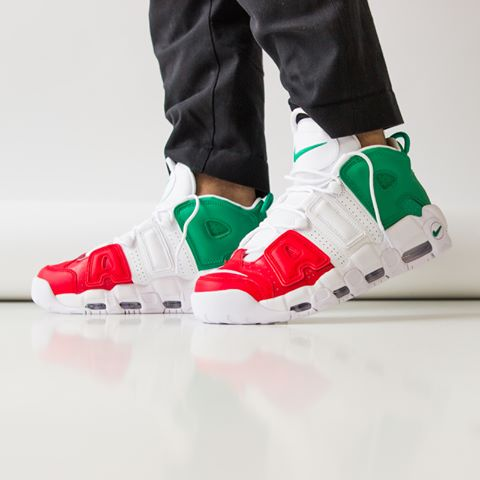Nike Air Uptempo '96 Italy: (196, 99, 474, 326), (27, 153, 287, 329)
